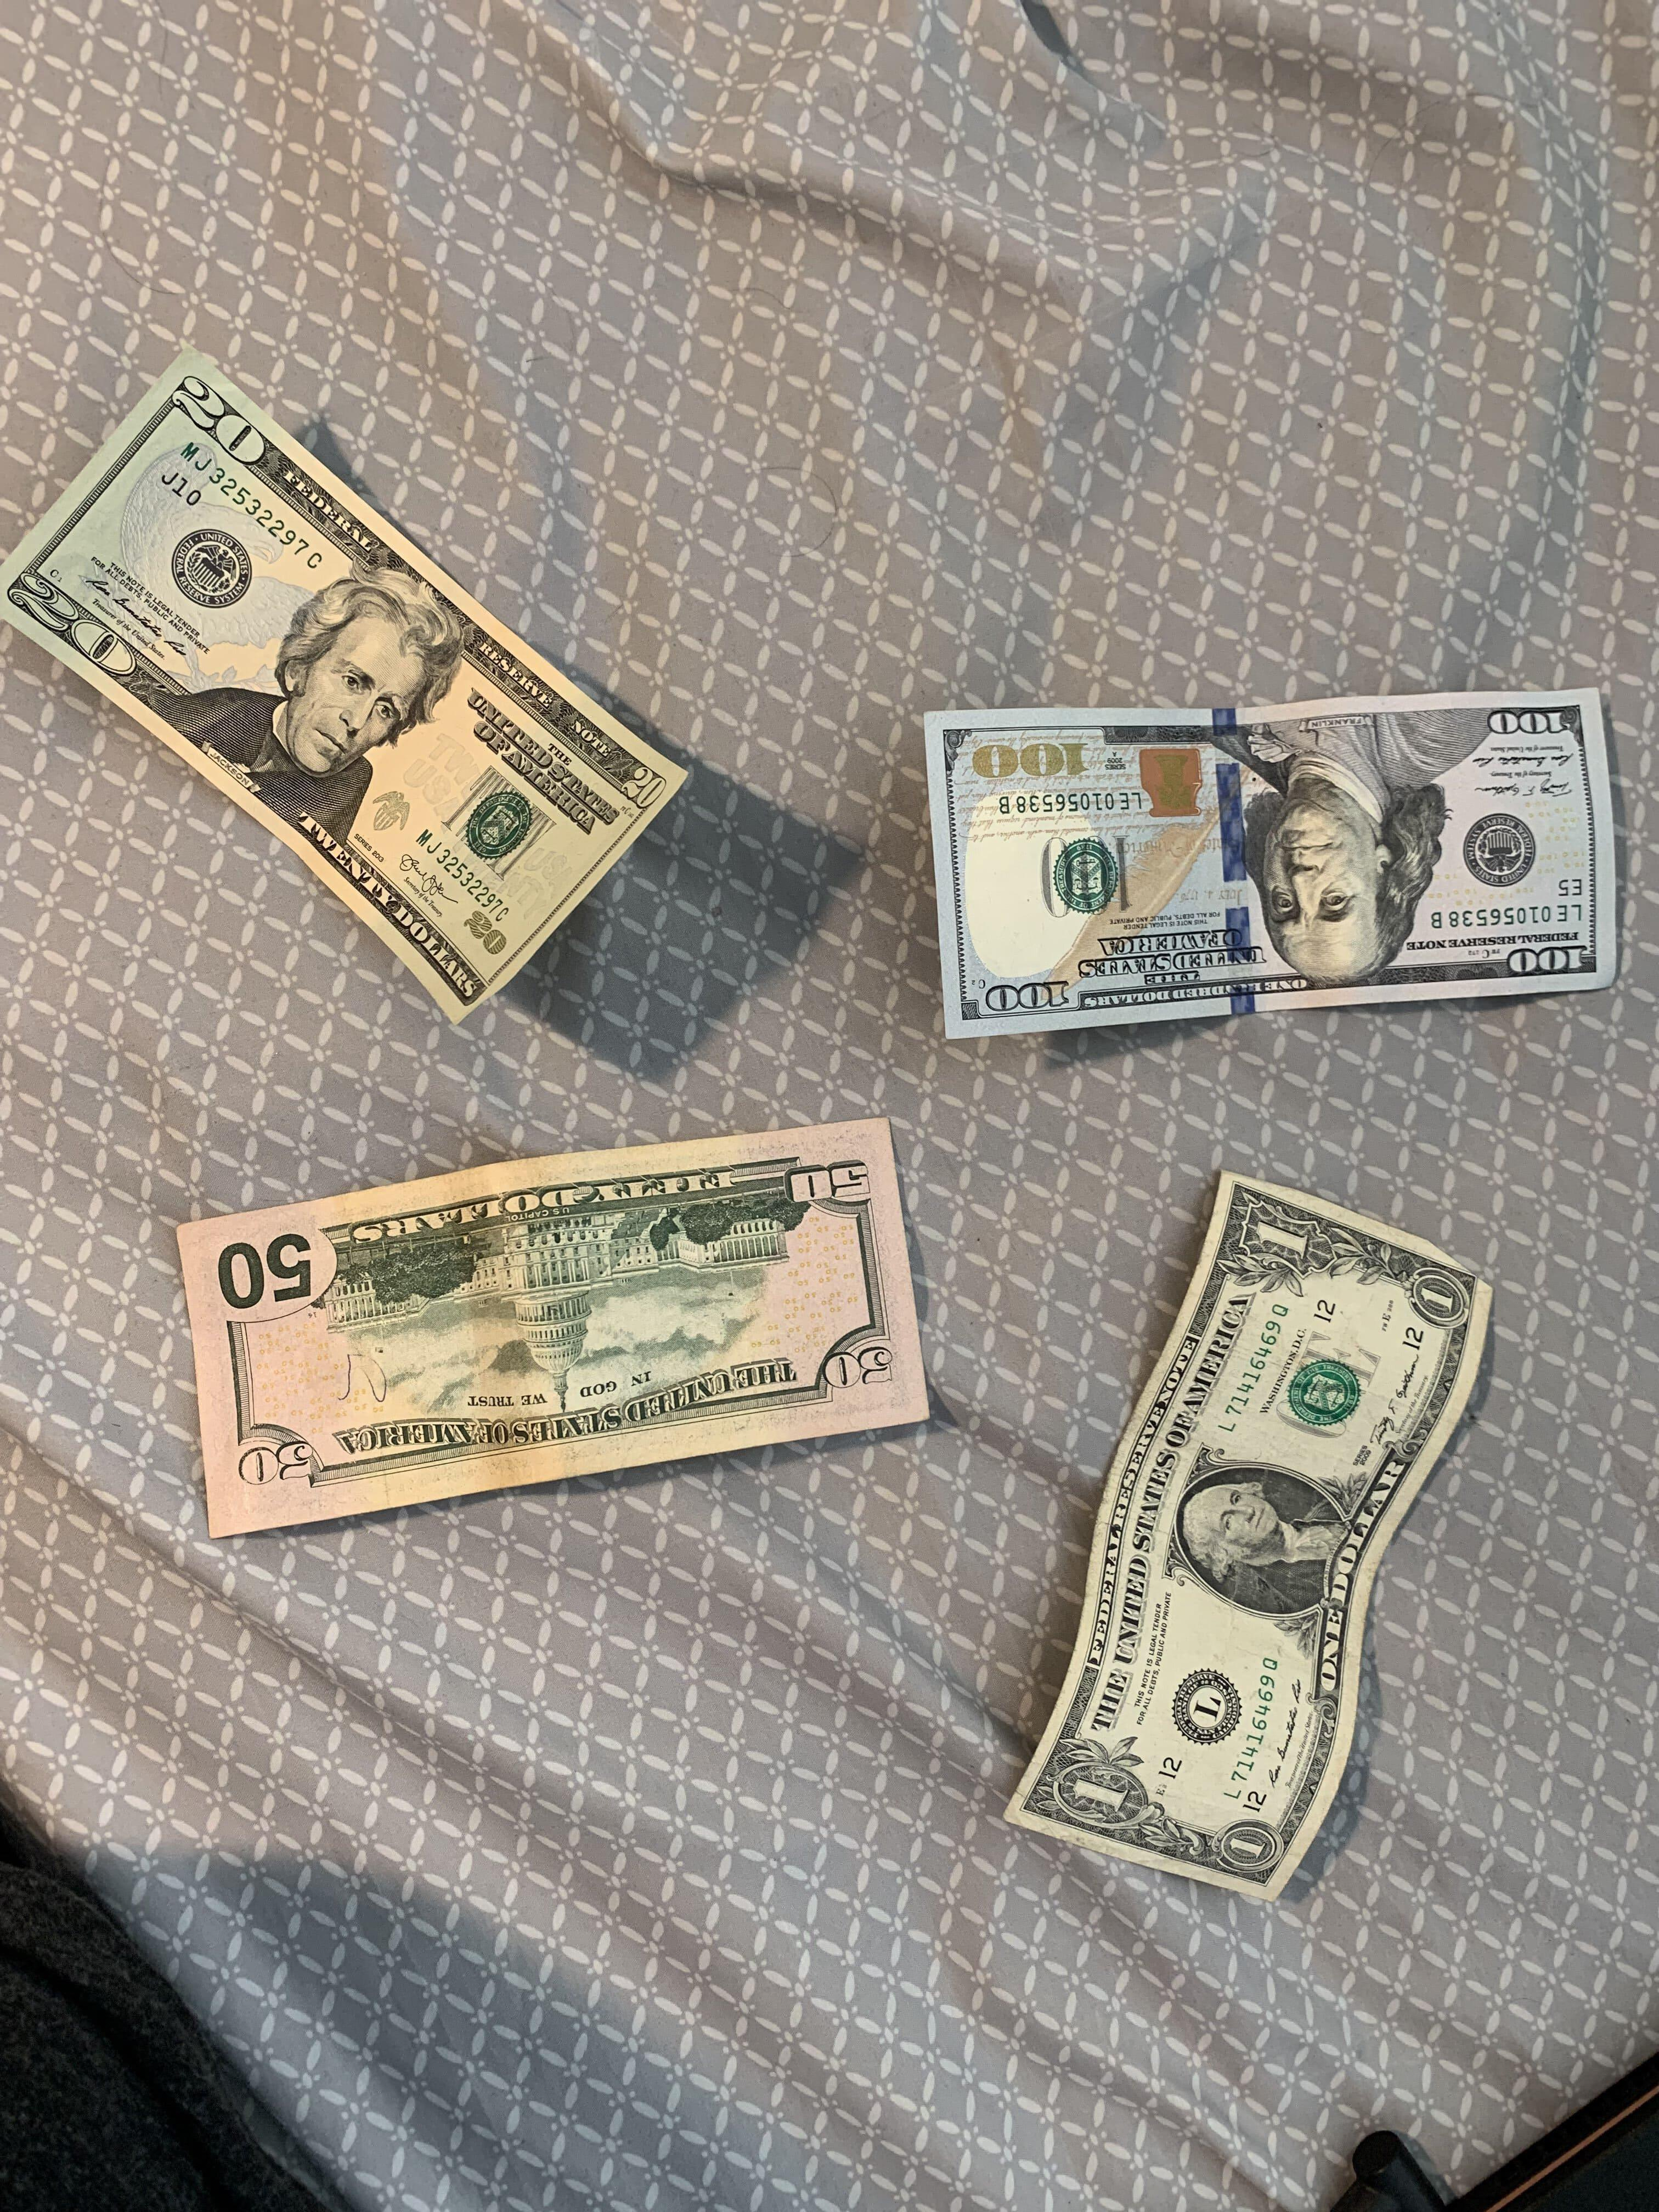FiftyBill: (124, 1096, 946, 1581)
HundredBill: (894, 653, 1642, 1087)
OneBill: (992, 1122, 1514, 1905)
TwentyBill: (3, 317, 709, 1064)
